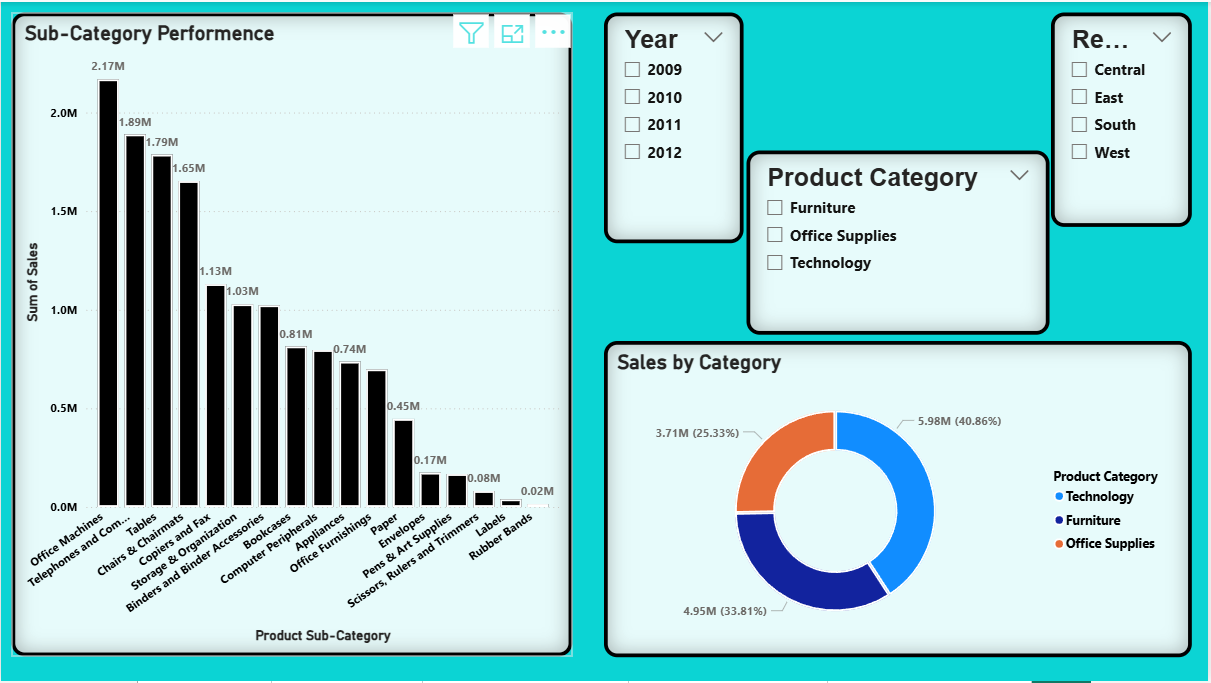

The dashboard page shown, as its layout file describes it:
{"tool":"powerbi","page":{"name":"Category Analysis","canvas":[1280,720],"ordinal":2},"visuals":[{"type":"donutChart","title":"Sales by  Category","fields":{"Category":["Sample - Superstore Sales (Excel).Product Category"],"Y":["Sum(Sample - Superstore Sales (Excel).Sales)"]},"box":[639.4,359.5,623.5,335.6],"z":0},{"type":"columnChart","title":"Sub-Category Performence","fields":{"Category":["Sample - Superstore Sales (Excel).Product Sub-Category"],"Y":["Sum(Sample - Superstore Sales (Excel).Sales)"]},"box":[11.1,11.1,594.9,682.4],"z":1000},{"type":"slicer","fields":{"Values":["Sample - Superstore Sales (Excel).Order Date.Variation.Date Hierarchy.Year"]},"box":[639.4,11.1,147.9,245],"z":2000},{"type":"slicer","fields":{"Values":["Sample - Superstore Sales (Excel).Region"]},"box":[1113.4,11.1,149.5,227.5],"z":3000},{"type":"slicer","fields":{"Values":["Sample - Superstore Sales (Excel).Product Category"]},"box":[790.5,157.5,321.3,195.6],"z":4000}]}

Visuals, with their boxes in screenshot pixels (x1, y1, x2, y2), scaled from the page's 1280x720 canvas onto the 1211x683 screenshot:
"Sales by  Category" donutChart: select_region(605, 341, 1195, 659)
"Sub-Category Performence" columnChart: select_region(11, 11, 573, 658)
slicer - Sample - Superstore Sales (Excel).Order Date.Variation.Date Hierarchy.Year: select_region(605, 11, 745, 243)
slicer - Sample - Superstore Sales (Excel).Region: select_region(1053, 11, 1195, 226)
slicer - Sample - Superstore Sales (Excel).Product Category: select_region(748, 149, 1052, 335)
